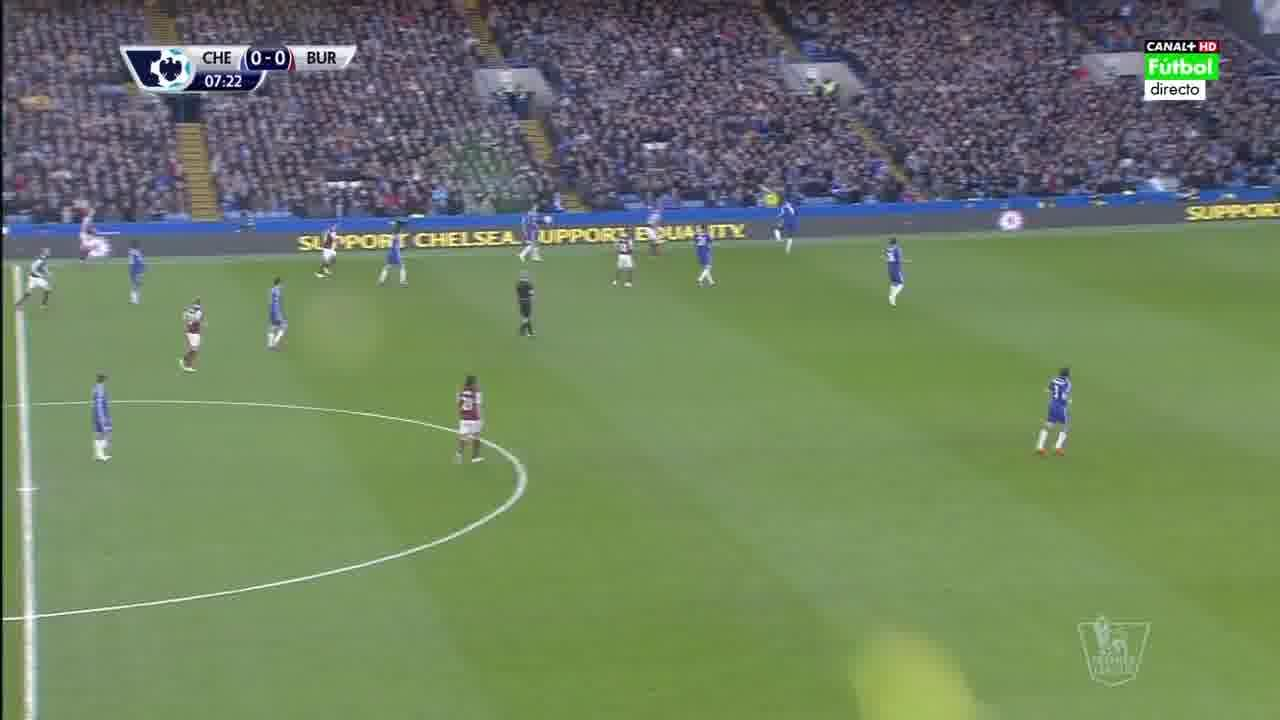football: (544, 216, 552, 224)
